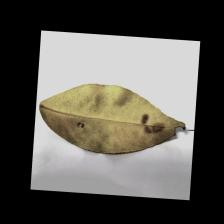canker: (61, 103, 190, 151)
